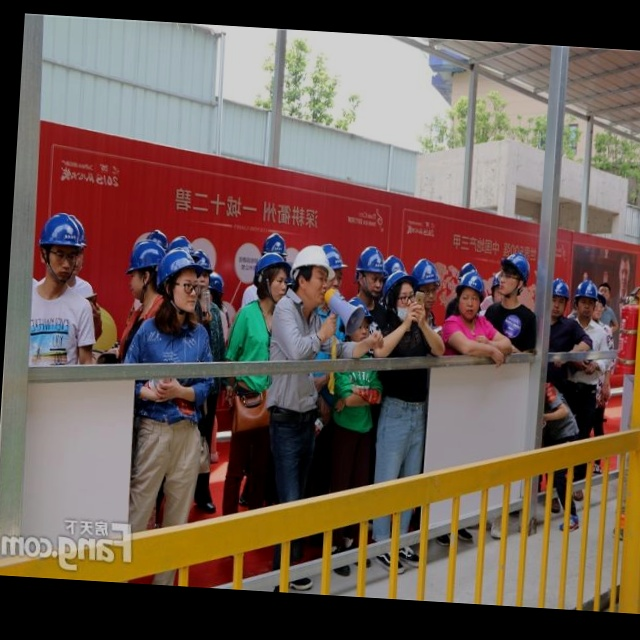Con_Casco: (37, 214, 80, 282), (159, 253, 202, 312), (457, 272, 488, 320)
